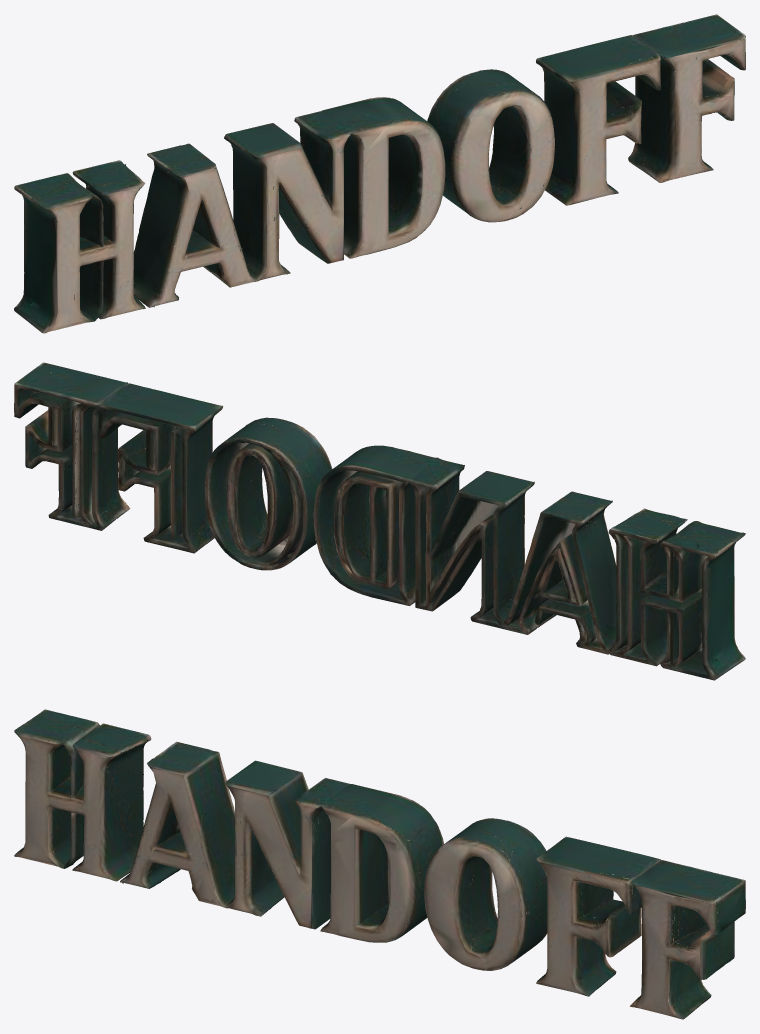
File: wordmark-03-handoff.glb
3 renders of one model, top to bottom at view 1: azimuth 30°, elevation 25°; view 2: azimuth 150°, elevation 25°; view 3: azimuth 330°, elevation 25°, orthographic.
Visible parts, largest first — view 1: wordmark-handoff; view 2: wordmark-handoff; view 3: wordmark-handoff.
Boxes of the visible parts, left/top/right/bottom form: wordmark-handoff: left=14, top=14, right=745, bottom=333; wordmark-handoff: left=14, top=362, right=745, bottom=680; wordmark-handoff: left=14, top=709, right=745, bottom=1019.
Size of the model in its own units: 2 by 0.3513 by 0.1571.
1 material, 1 textured.
